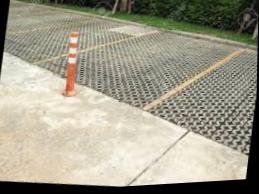Animal: (60, 27, 96, 97)
